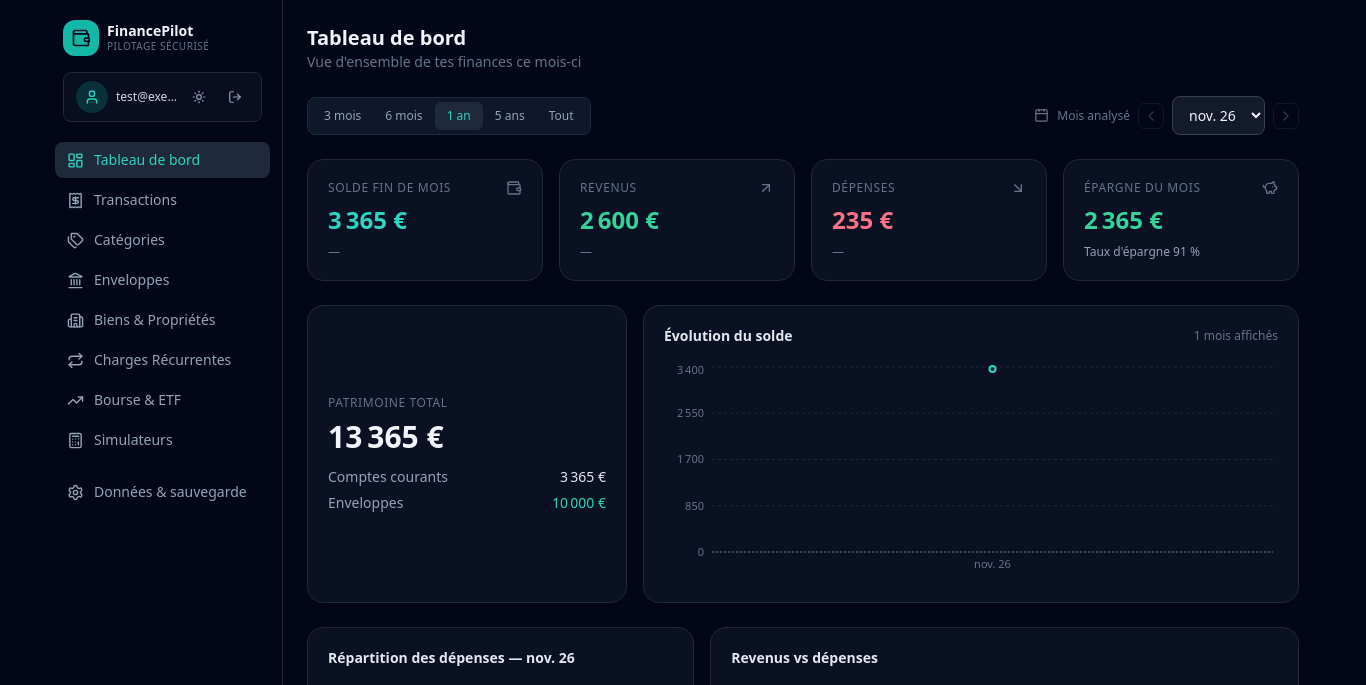
Test: Application › ajoute une dépense : appel API avec un montant négatif
Click the button "Transactions" at (162, 200), box [55,182,270,218]
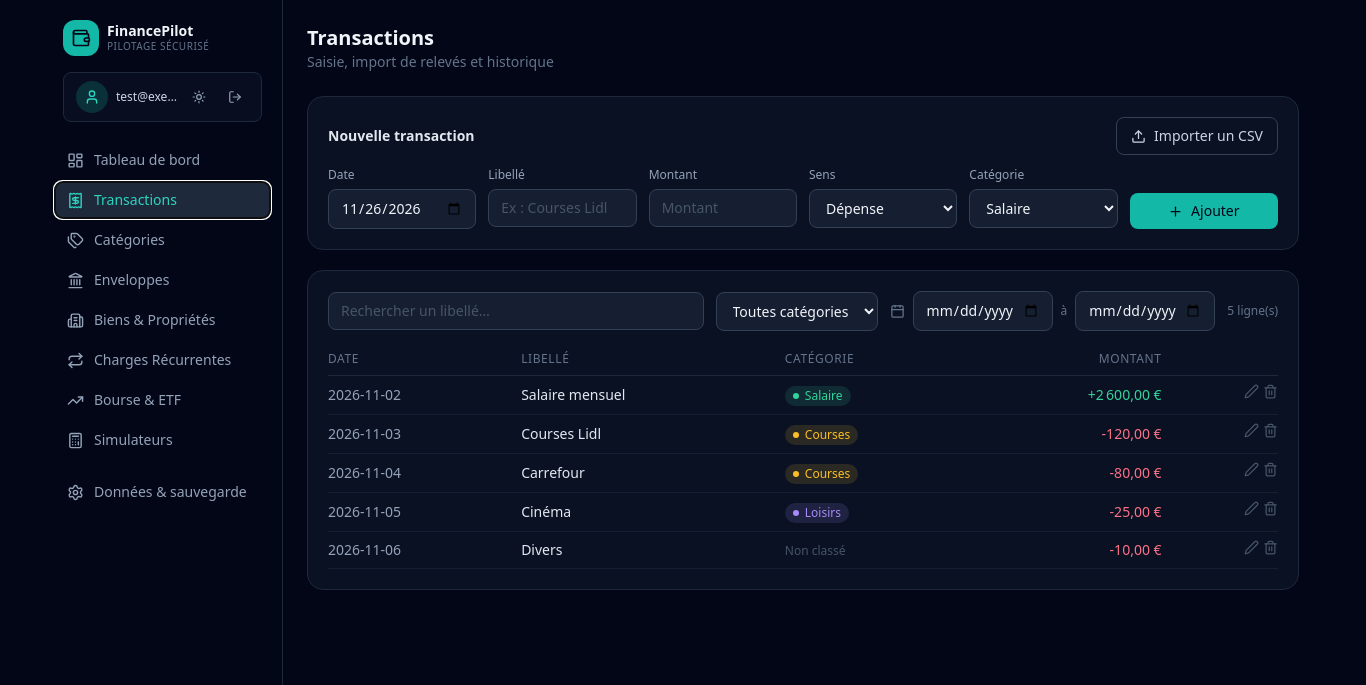
Type "Boulangerie" into the field with placeholder "Ex : Courses Lidl" at (562, 208), box [488,189,637,227]
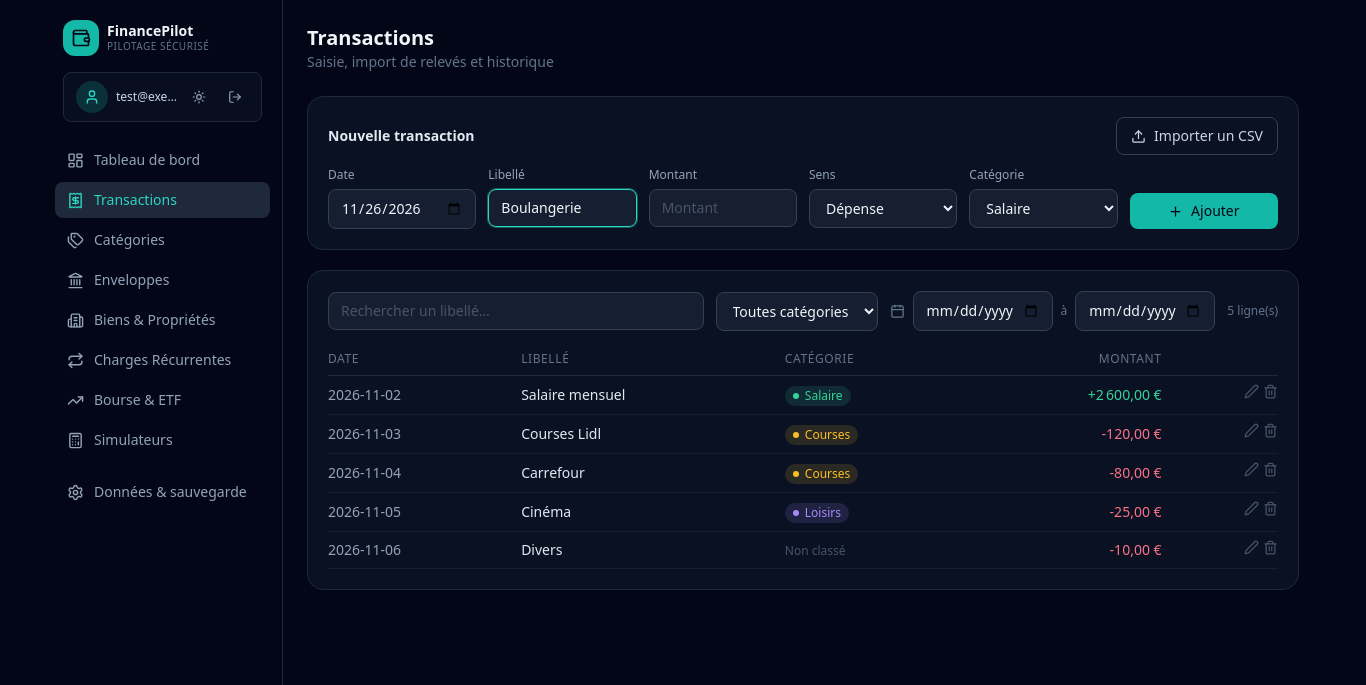
Type "12,50" into the field with placeholder "Montant" at (723, 208), box [649,189,797,227]
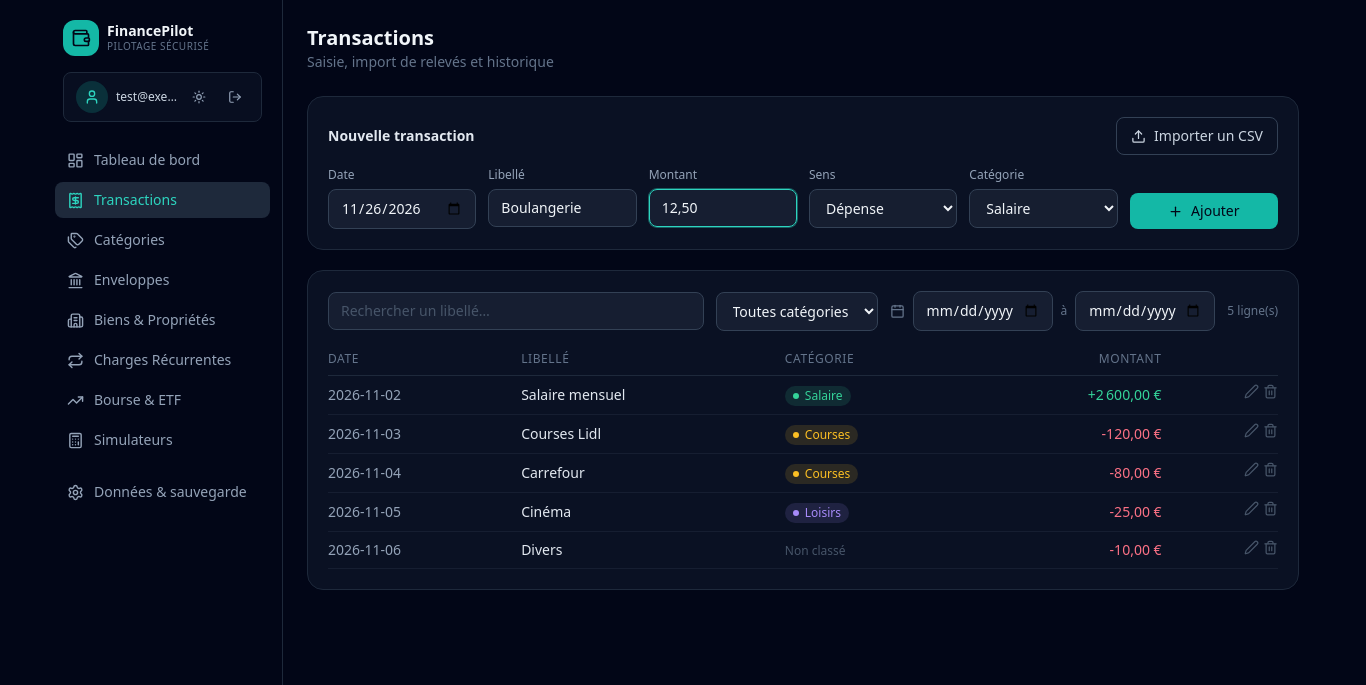
Click the button "Ajouter" at (1204, 211), box [1130,193,1278,229]
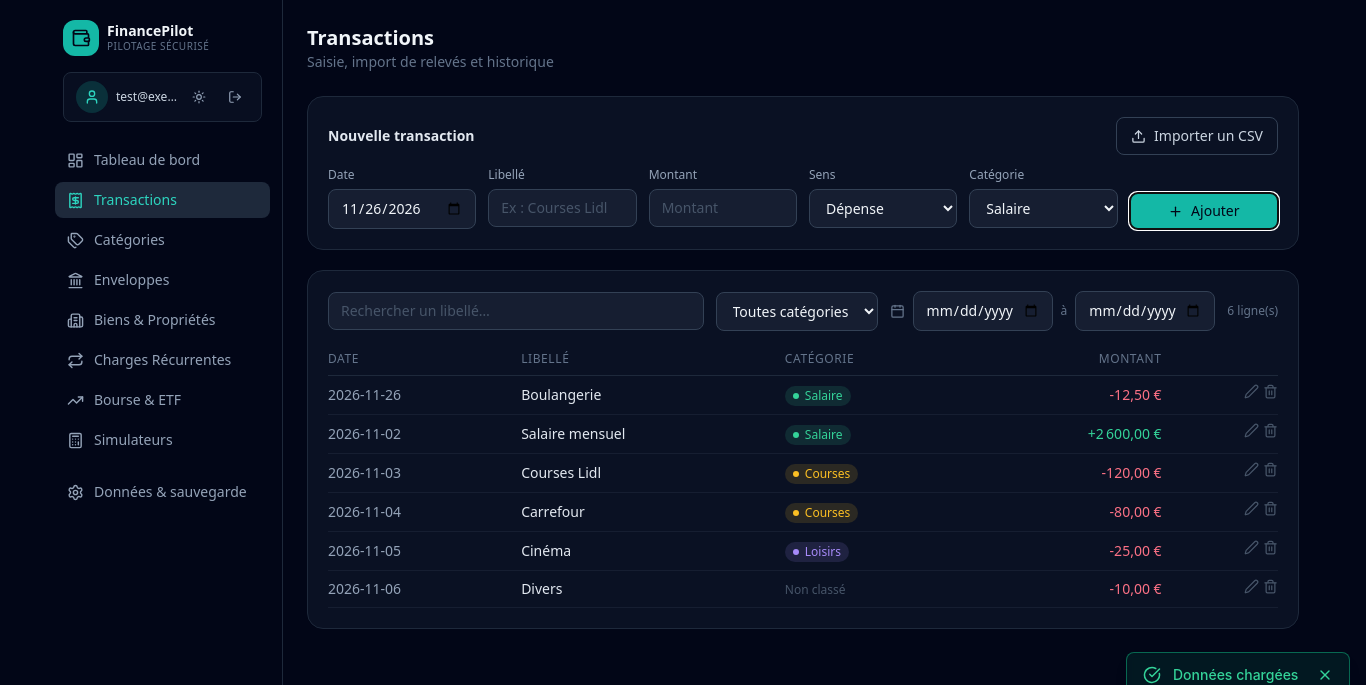
Expected: the text "Boulangerie" is shown, [521,376,785,414]
